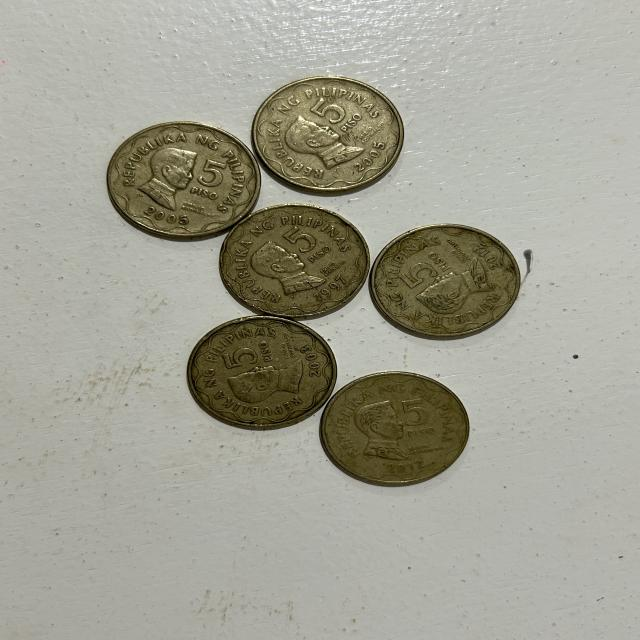5_Old_Front: (386, 248, 452, 290), (303, 99, 369, 139), (190, 161, 242, 210), (398, 398, 448, 444), (220, 338, 287, 372), (285, 222, 330, 271)
